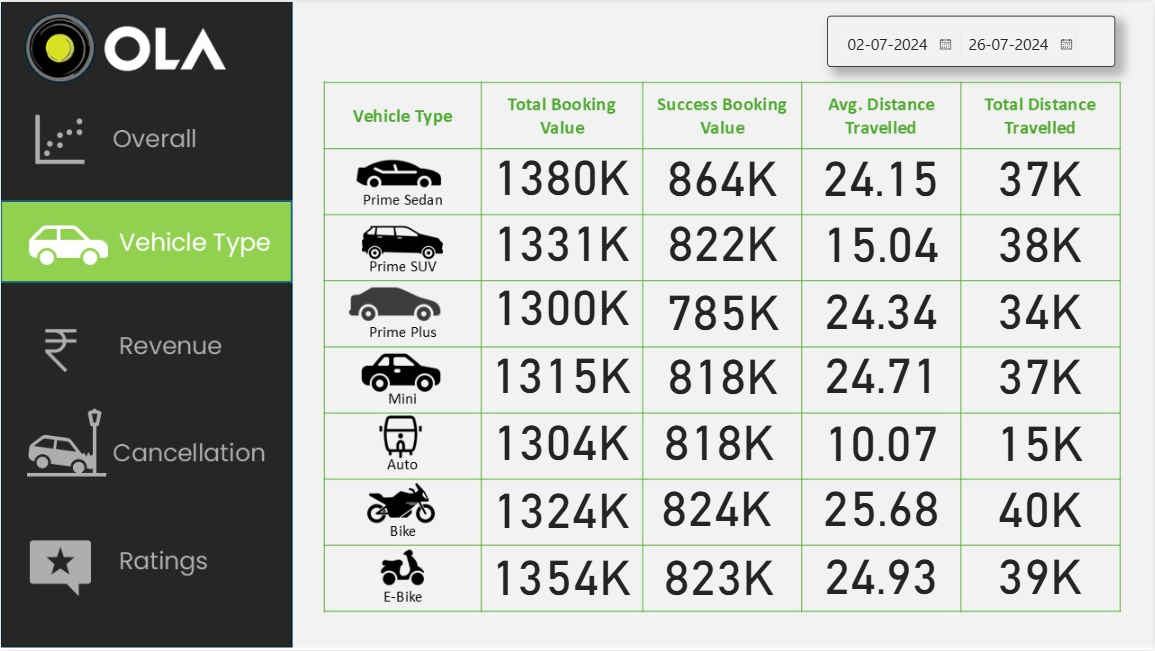

What the dashboard file says about the page in this screenshot:
{"tool":"powerbi","page":{"name":"Vehicle Type","canvas":[1280,720],"ordinal":1},"visuals":[{"type":"actionButton","box":[0,107.4,325,88.2],"z":0},{"type":"actionButton","box":[0,335.3,325,91.2],"z":1000},{"type":"actionButton","box":[0,438.2,325,98.5],"z":2000},{"type":"actionButton","box":[0,577.9,325,91.2],"z":3000},{"type":"card","fields":{"Values":["Sum(booking123.Booking_Value)"]},"box":[536,168,173.3,62.7],"z":4000},{"type":"card","fields":{"Values":["Sum(booking123.Booking_Value)"]},"box":[536,241.3,173.3,62.7],"z":5000},{"type":"card","fields":{"Values":["Sum(booking123.Booking_Value)"]},"box":[536,312,173,62],"z":6000},{"type":"card","fields":{"Values":["Sum(booking123.Booking_Value)"]},"box":[536,388,173,63],"z":7000},{"type":"card","fields":{"Values":["Sum(booking123.Booking_Value)"]},"box":[536,463,173,63],"z":8000},{"type":"card","fields":{"Values":["Sum(booking123.Booking_Value)"]},"box":[536,537,173,63],"z":9000},{"type":"card","fields":{"Values":["Sum(booking123.Booking_Value)"]},"box":[536.4,612.1,172.9,62.9],"z":10000},{"type":"card","fields":{"Values":["Sum(booking123.Booking_Value)"]},"box":[718.2,168.2,167.1,63.5],"z":11000},{"type":"card","fields":{"Values":["Sum(booking123.Booking_Value)"]},"box":[714.7,241.2,173.5,62.4],"z":12000},{"type":"card","fields":{"Values":["Sum(booking123.Booking_Value)"]},"box":[714.7,318.2,173.5,62.4],"z":13000},{"type":"card","fields":{"Values":["Sum(booking123.Booking_Value)"]},"box":[714.7,388.8,173.5,62.4],"z":14000},{"type":"card","fields":{"Values":["Sum(booking123.Booking_Value)"]},"box":[711.8,462.9,173.5,62.4],"z":15000},{"type":"card","fields":{"Values":["Sum(booking123.Booking_Value)"]},"box":[708.8,536.5,173.5,62.4],"z":16000},{"type":"card","fields":{"Values":["Sum(booking123.Booking_Value)"]},"box":[711.8,612.4,173.5,62.4],"z":17000},{"type":"card","fields":{"Values":["Avg(booking123.Ride_Distance)"]},"box":[894.7,168.2,167.1,63.5],"z":18000},{"type":"card","fields":{"Values":["Avg(booking123.Ride_Distance)"]},"box":[894.7,241.2,167.1,63.5],"z":19000},{"type":"card","fields":{"Values":["Avg(booking123.Ride_Distance)"]},"box":[894.7,317.1,167.1,63.5],"z":20000},{"type":"card","fields":{"Values":["Avg(booking123.Ride_Distance)"]},"box":[894.7,387.6,167.1,63.5],"z":21000},{"type":"card","fields":{"Values":["Avg(booking123.Ride_Distance)"]},"box":[894.7,462.9,167.1,63.5],"z":22000},{"type":"card","fields":{"Values":["Avg(booking123.Ride_Distance)"]},"box":[894.7,535.3,167.1,63.5],"z":23000},{"type":"card","fields":{"Values":["Avg(booking123.Ride_Distance)"]},"box":[894.7,611.2,167.1,63.5],"z":24000},{"type":"card","fields":{"Values":["Sum(booking123.Ride_Distance)"]},"box":[1070.6,168.2,167.1,63.5],"z":25000},{"type":"card","fields":{"Values":["Sum(booking123.Ride_Distance)"]},"box":[1070.6,241.2,167.1,63.5],"z":26000},{"type":"card","fields":{"Values":["Sum(booking123.Ride_Distance)"]},"box":[1070.6,317.1,167.1,63.5],"z":27000},{"type":"card","fields":{"Values":["Sum(booking123.Ride_Distance)"]},"box":[1070.6,388.2,167.1,63.5],"z":28000},{"type":"card","fields":{"Values":["Sum(booking123.Ride_Distance)"]},"box":[1070.6,462.4,167.1,63.5],"z":29000},{"type":"card","fields":{"Values":["Sum(booking123.Ride_Distance)"]},"box":[1070.6,536.5,167.1,63.5],"z":30000},{"type":"card","fields":{"Values":["Sum(booking123.Ride_Distance)"]},"box":[1070.6,611.2,167.1,63.5],"z":31000},{"type":"slicer","title":"Date","fields":{"Values":["booking123.Date"]},"box":[918.5,15.4,320,56.9],"z":31001}]}

Visuals, with their boxes on the page's 1280x720 design canvas (x1, y1, x2, y2). These are canvas units, not pixel positions in the 1155x651 screenshot, which may show the page scaled, cropped or inside an application window:
actionButton: 0, 107, 325, 196
actionButton: 0, 335, 325, 426
actionButton: 0, 438, 325, 537
actionButton: 0, 578, 325, 669
card - Sum(booking123.Booking_Value): 536, 168, 709, 231
card - Sum(booking123.Booking_Value): 536, 241, 709, 304
card - Sum(booking123.Booking_Value): 536, 312, 709, 374
card - Sum(booking123.Booking_Value): 536, 388, 709, 451
card - Sum(booking123.Booking_Value): 536, 463, 709, 526
card - Sum(booking123.Booking_Value): 536, 537, 709, 600
card - Sum(booking123.Booking_Value): 536, 612, 709, 675
card - Sum(booking123.Booking_Value): 718, 168, 885, 232
card - Sum(booking123.Booking_Value): 715, 241, 888, 304
card - Sum(booking123.Booking_Value): 715, 318, 888, 381
card - Sum(booking123.Booking_Value): 715, 389, 888, 451
card - Sum(booking123.Booking_Value): 712, 463, 885, 525
card - Sum(booking123.Booking_Value): 709, 536, 882, 599
card - Sum(booking123.Booking_Value): 712, 612, 885, 675
card - Avg(booking123.Ride_Distance): 895, 168, 1062, 232
card - Avg(booking123.Ride_Distance): 895, 241, 1062, 305
card - Avg(booking123.Ride_Distance): 895, 317, 1062, 381
card - Avg(booking123.Ride_Distance): 895, 388, 1062, 451
card - Avg(booking123.Ride_Distance): 895, 463, 1062, 526
card - Avg(booking123.Ride_Distance): 895, 535, 1062, 599
card - Avg(booking123.Ride_Distance): 895, 611, 1062, 675
card - Sum(booking123.Ride_Distance): 1071, 168, 1238, 232
card - Sum(booking123.Ride_Distance): 1071, 241, 1238, 305
card - Sum(booking123.Ride_Distance): 1071, 317, 1238, 381
card - Sum(booking123.Ride_Distance): 1071, 388, 1238, 452
card - Sum(booking123.Ride_Distance): 1071, 462, 1238, 526
card - Sum(booking123.Ride_Distance): 1071, 536, 1238, 600
card - Sum(booking123.Ride_Distance): 1071, 611, 1238, 675
"Date" slicer: 918, 15, 1238, 72
